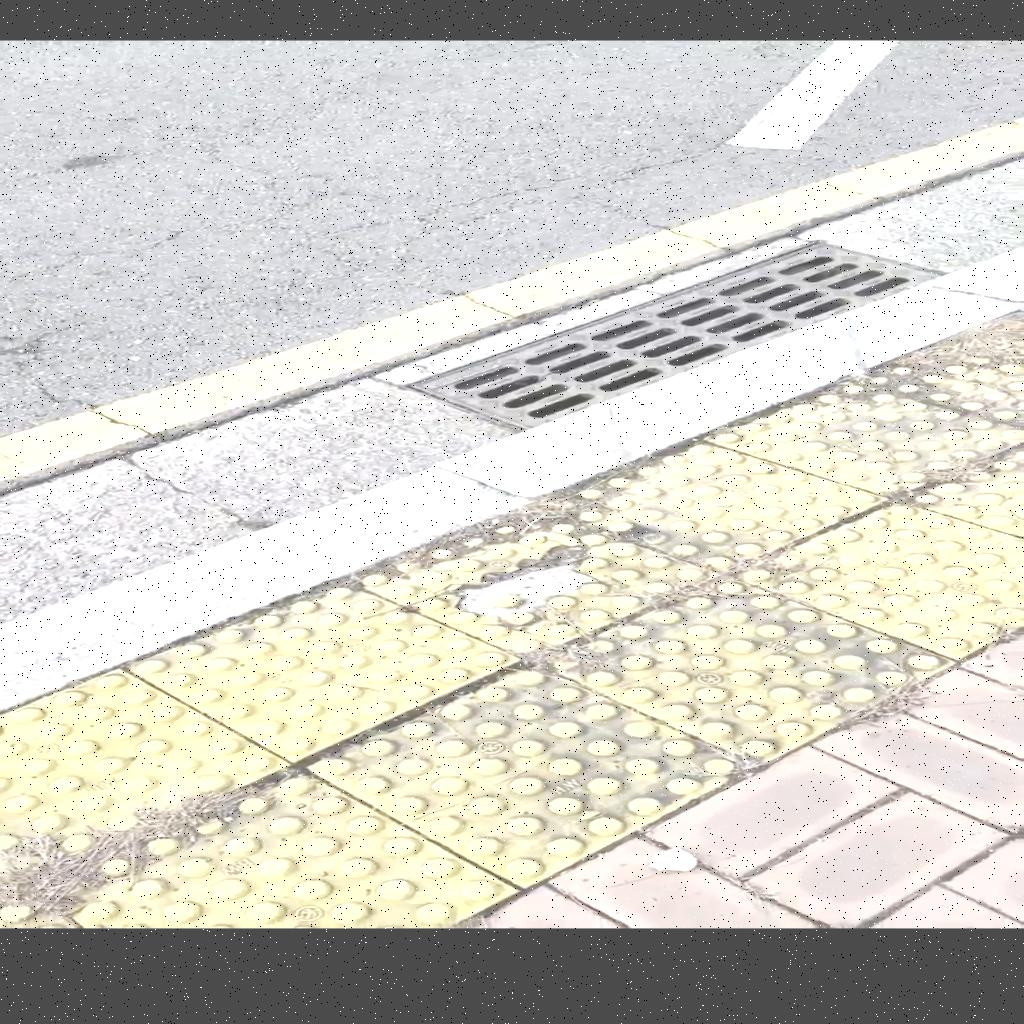Stop block broken: (353, 451, 718, 706)
Stop block normal: (306, 583, 756, 949), (530, 526, 956, 815), (125, 517, 519, 809)
